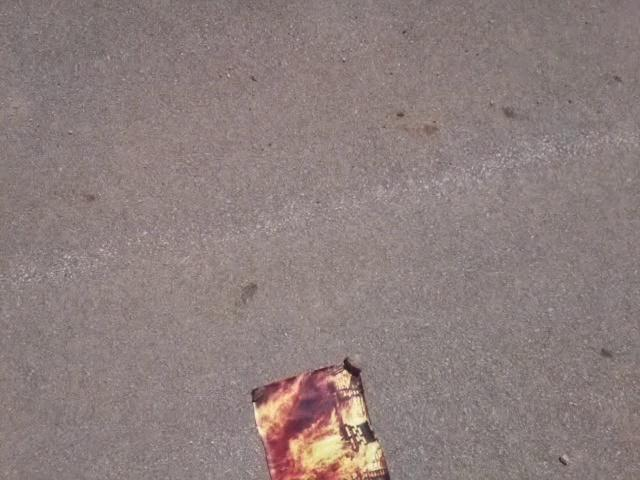fire-poster: (248, 353, 392, 479)
